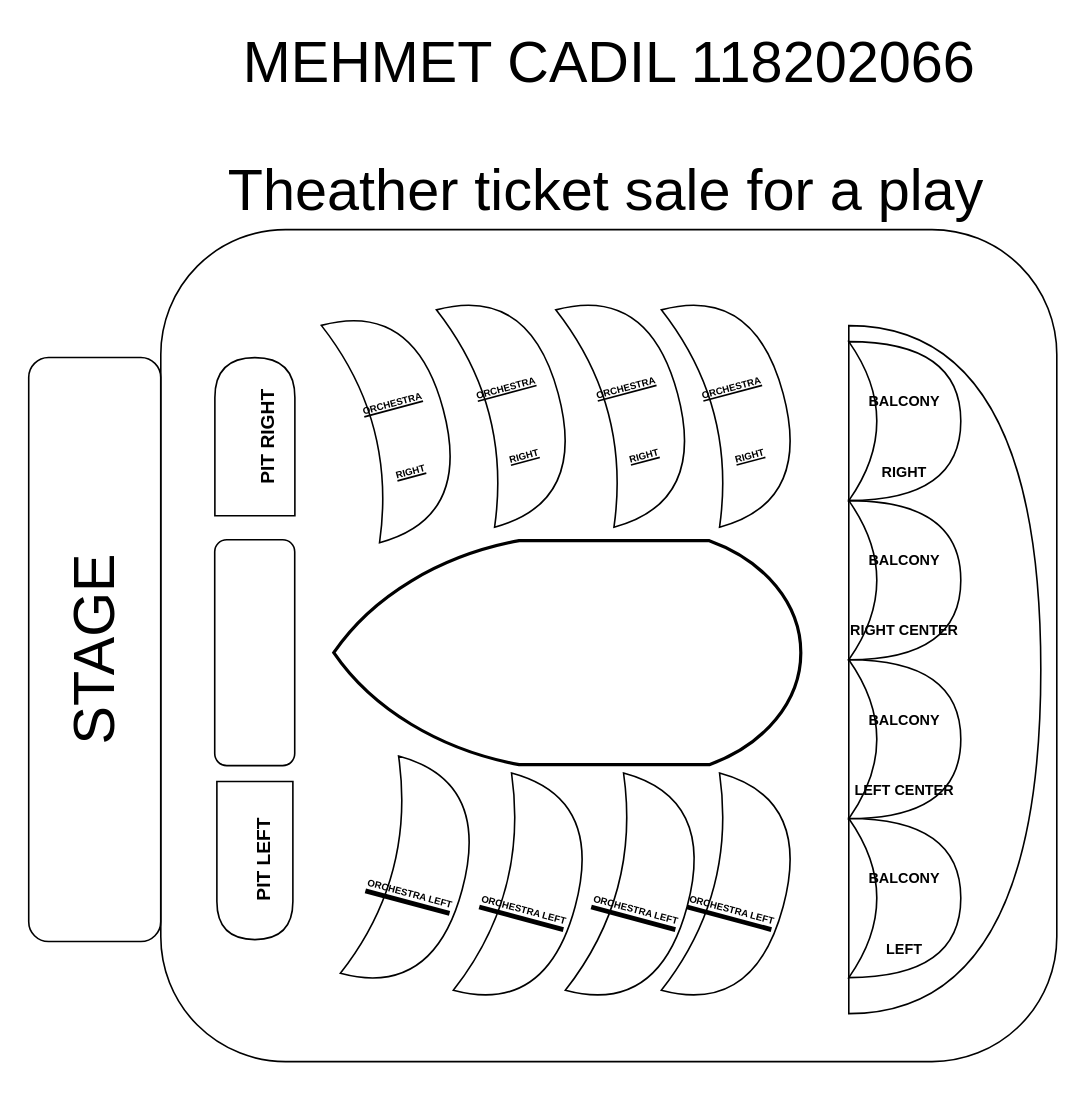
This 1085x1101 diagram has some shape labels left out. The shapes that lost their labels are listed below. From the top down, each one's centre as x and y in pixels, then its label:
At [254,652]: "PIT STAGE".
At [566,651]: "ORCHESTRA CENTER".
